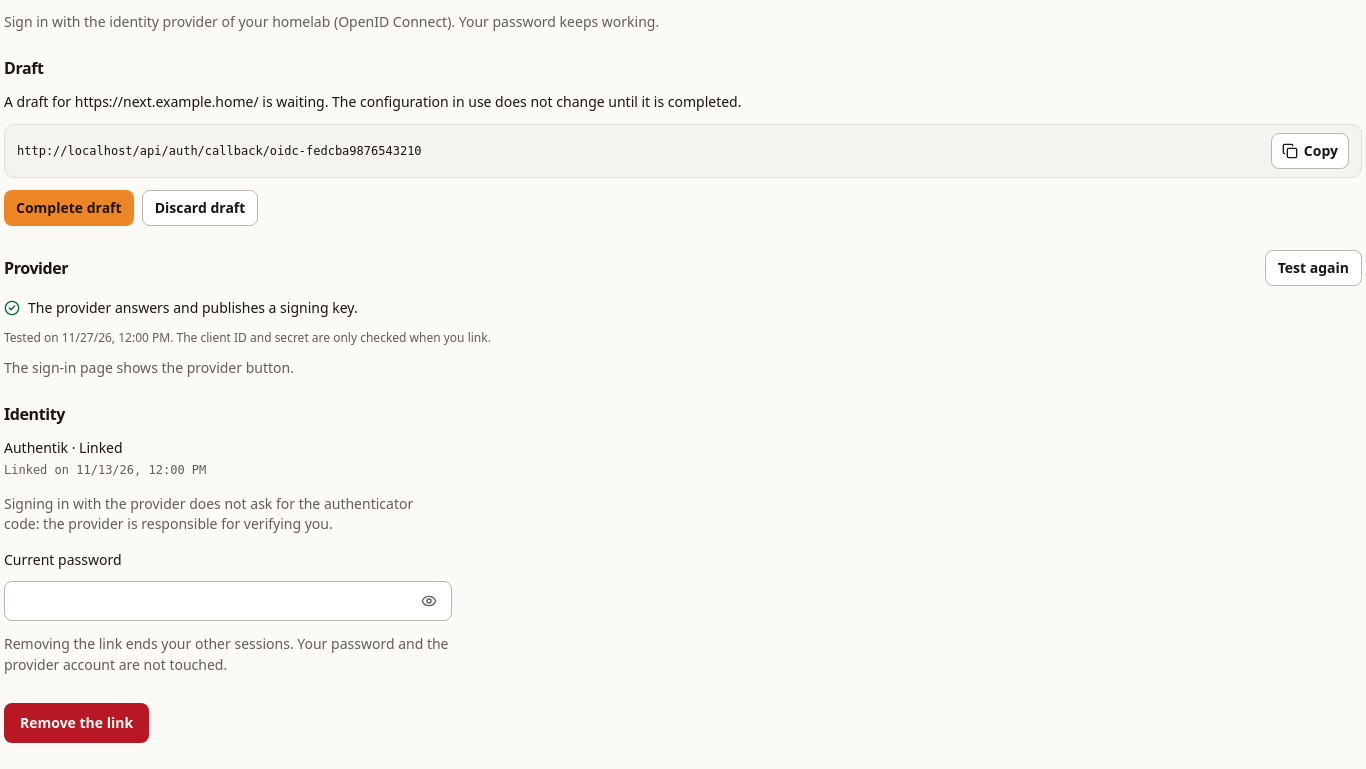
offers to complete or discard a draft beside the provider in use
Expected: the text "does not change until it is completed" is shown, 4,92 -> 742,111
Step 1. Click the button "Complete draft" → coordinates (69, 208), box 4,190 -> 134,226
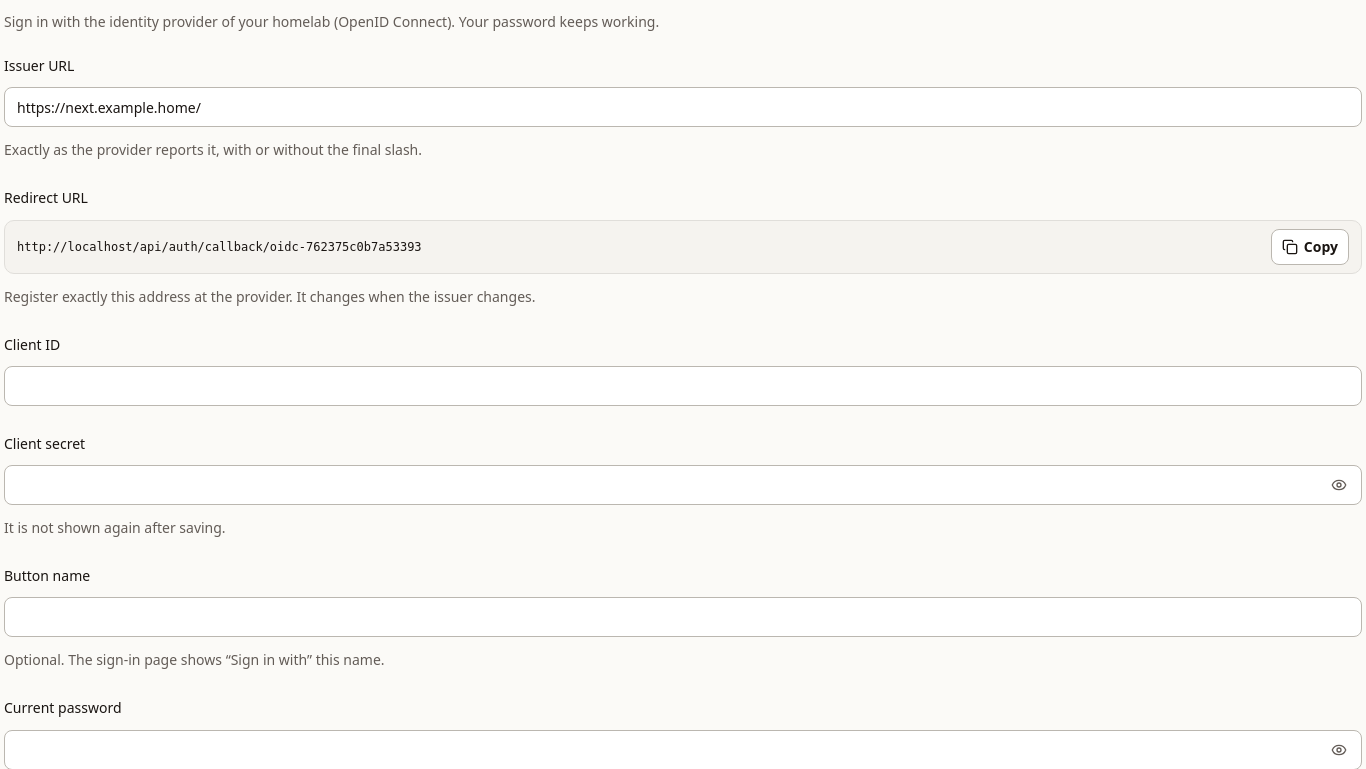
Expected: the field labelled "Issuer URL" holds "https://next.example.home/", 4,87 -> 1362,127
